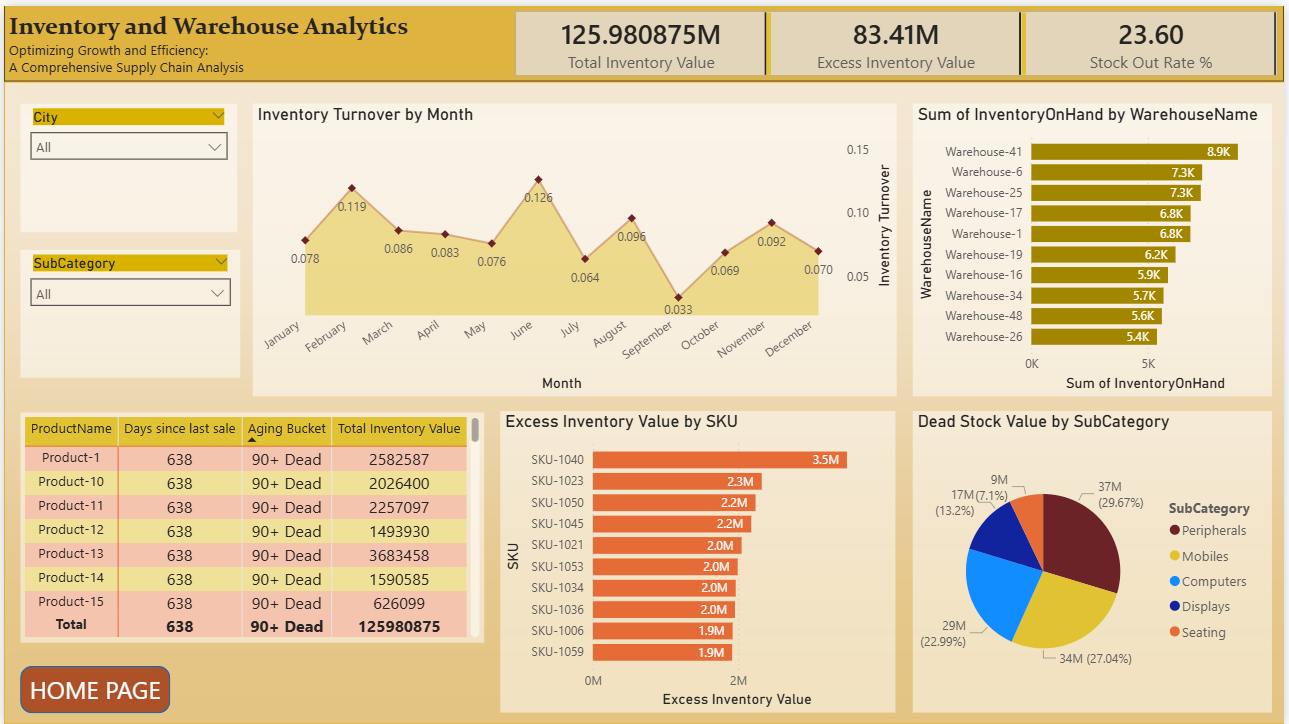

Layout of this report page (visuals, bound fields, positions):
{"tool":"powerbi","page":{"name":"INV and WH Analytics","canvas":[1280,720],"ordinal":1},"visuals":[{"type":"textbox","box":[0,0,1280,75],"z":0},{"type":"cardVisual","fields":{"Data":["DelayReason.Total Inventory Value","DelayReason.Excess Inventory Value","DelayReason.Stock Out Rate %"]},"box":[505.7,0,774.3,75.7],"z":1000},{"type":"clusteredBarChart","fields":{"Category":["Dim_Warehouse.WarehouseName"],"Y":["Sum(Fact_Inventory.InventoryOnHand)"]},"box":[908.6,97.6,359.2,292.8],"z":2000},{"type":"clusteredBarChart","fields":{"Category":["Dim_Product.SKU"],"Y":["DelayReason.Excess Inventory Value"]},"box":[496.8,405.5,395.5,301.6],"z":3000},{"type":"pivotTable","fields":{"Rows":["Dim_Product.ProductName"],"Values":["DelayReason.Days since last sale","DelayReason.Aging Bucket","DelayReason.Total Inventory Value"]},"box":[15.7,405.7,464.3,230],"z":4000},{"type":"pieChart","fields":{"Category":["Dim_Product.SubCategory"],"Y":["DelayReason.Dead Stock Value"]},"box":[908.6,405.5,359.2,301.6],"z":5000},{"type":"lineChart","fields":{"Y2":["DelayReason.Inventory Turnover"],"Category":["Dim_Date.Date.Variation.Date Hierarchy.Month"]},"box":[248.6,97.1,644.3,292.9],"z":6000},{"type":"slicer","fields":{"Values":["Dim_Warehouse.City"]},"box":[15.7,97.1,217.1,128.6],"z":7000},{"type":"slicer","fields":{"Values":["Dim_Product.SubCategory"]},"box":[15.7,244.3,220,127.1],"z":8000},{"type":"shape","box":[15.7,660,150,47.1],"z":9000}]}

Visuals, with their boxes in screenshot pixels (x1, y1, x2, y2), scaled from the page's 1280x720 canvas onto the 1289x724 screenshot:
textbox: [0, 0, 1288, 75]
cardVisual - DelayReason.Total Inventory Value x DelayReason.Excess Inventory Value: [509, 0, 1288, 76]
clusteredBarChart - Dim_Warehouse.WarehouseName x Sum(Fact_Inventory.InventoryOnHand): [915, 98, 1277, 393]
clusteredBarChart - Dim_Product.SKU x DelayReason.Excess Inventory Value: [500, 408, 899, 711]
pivotTable - Dim_Product.ProductName x DelayReason.Days since last sale: [16, 408, 483, 639]
pieChart - Dim_Product.SubCategory x DelayReason.Dead Stock Value: [915, 408, 1277, 711]
lineChart - DelayReason.Inventory Turnover x Dim_Date.Date.Variation.Date Hierarchy.Month: [250, 98, 899, 392]
slicer - Dim_Warehouse.City: [16, 98, 234, 227]
slicer - Dim_Product.SubCategory: [16, 246, 237, 373]
shape: [16, 664, 167, 711]
